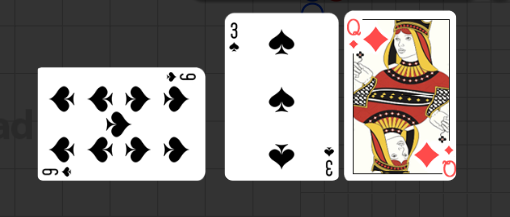9S: (163, 69, 197, 83), (40, 165, 73, 177)
QD: (400, 134, 444, 181), (333, 14, 377, 60)
